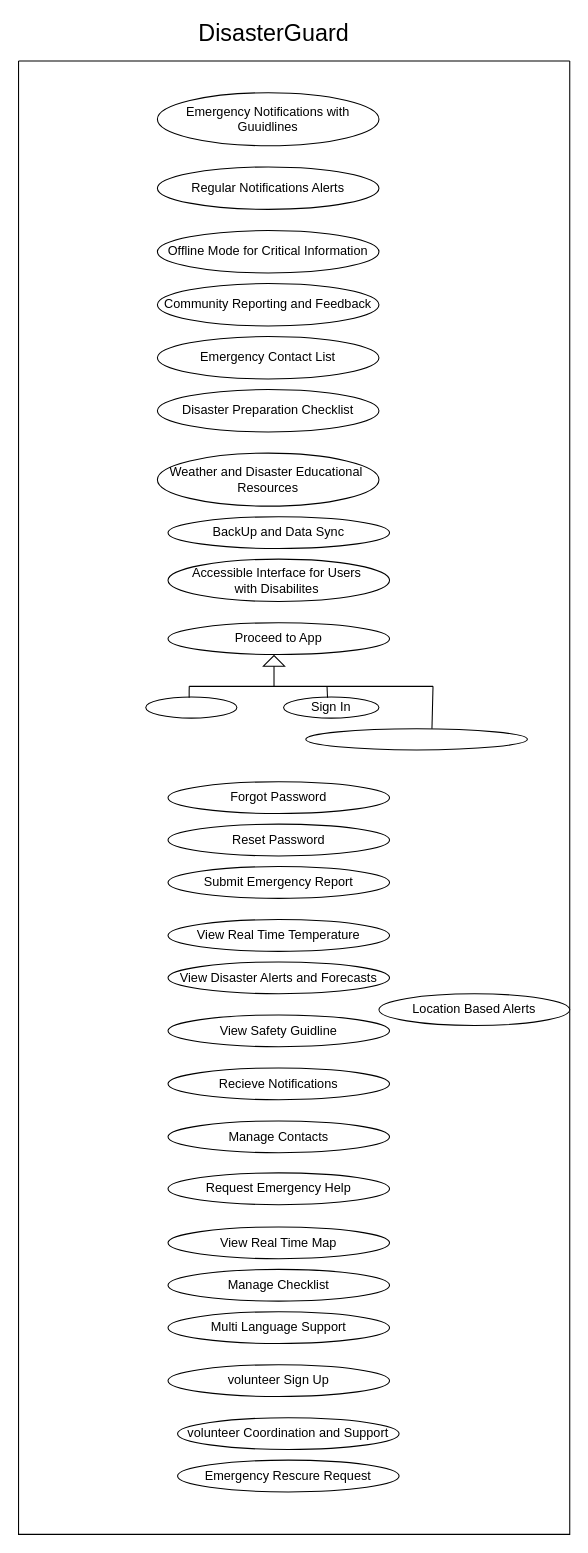
Some shapes in this 588 by 1553 pixel diagram are drawn without their labels. The centre of each missing label's shape, as x and y in pixels:
Continue Without Sign In/ Sign Up: the point at 416,739
Sign Up: the point at 191,707
